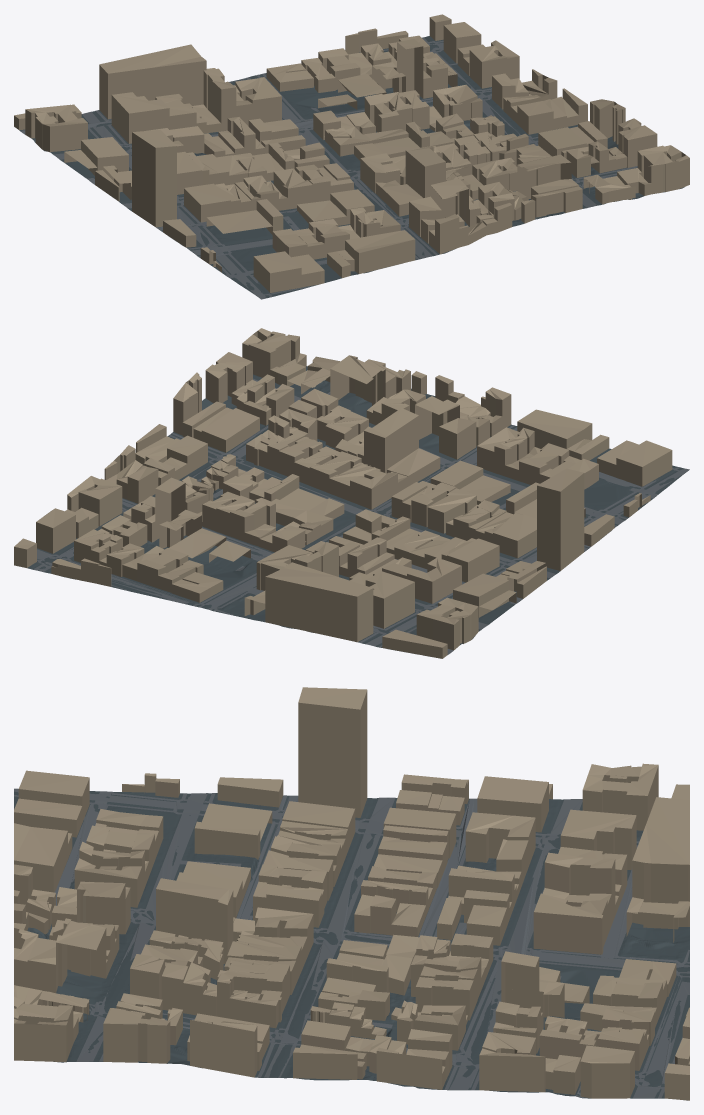
Rendered from epsg26910-1435-10891.lod0.glb.
3 renders of one model, top to bottom at view 1: azimuth 30°, elevation 25°; view 2: azimuth 150°, elevation 25°; view 3: azimuth 270°, elevation 25°, orthographic. The views are drawn at different scales.
Parts seen in each view (by area): view 1: epsg26910-1435-10891-lod0; view 2: epsg26910-1435-10891-lod0; view 3: epsg26910-1435-10891-lod0.
Boxes of the visible parts, x1,y1,x2,y2 form: epsg26910-1435-10891-lod0: [14, 14, 689, 299]; epsg26910-1435-10891-lod0: [14, 328, 689, 658]; epsg26910-1435-10891-lod0: [14, 687, 689, 1100].
Bounding box in the file's own units: 384 × 80.01 × 384.
